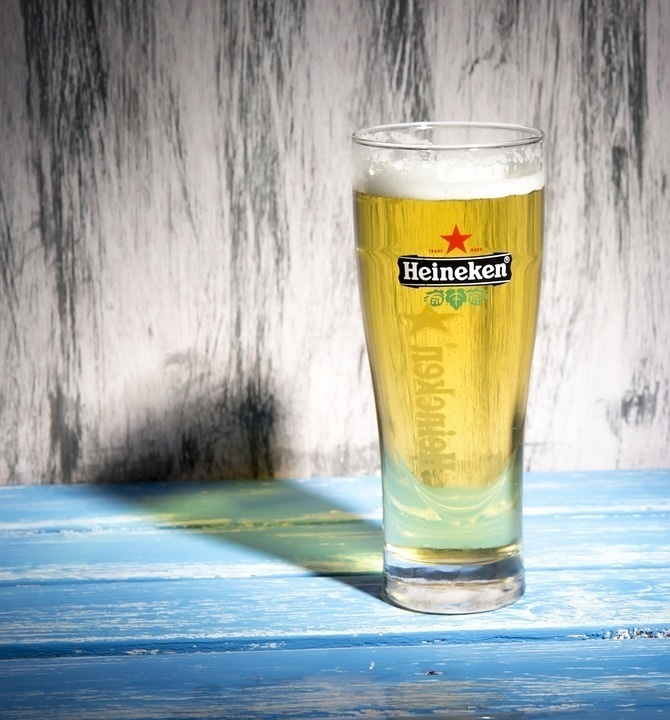whiskey: (366, 120, 541, 585)
